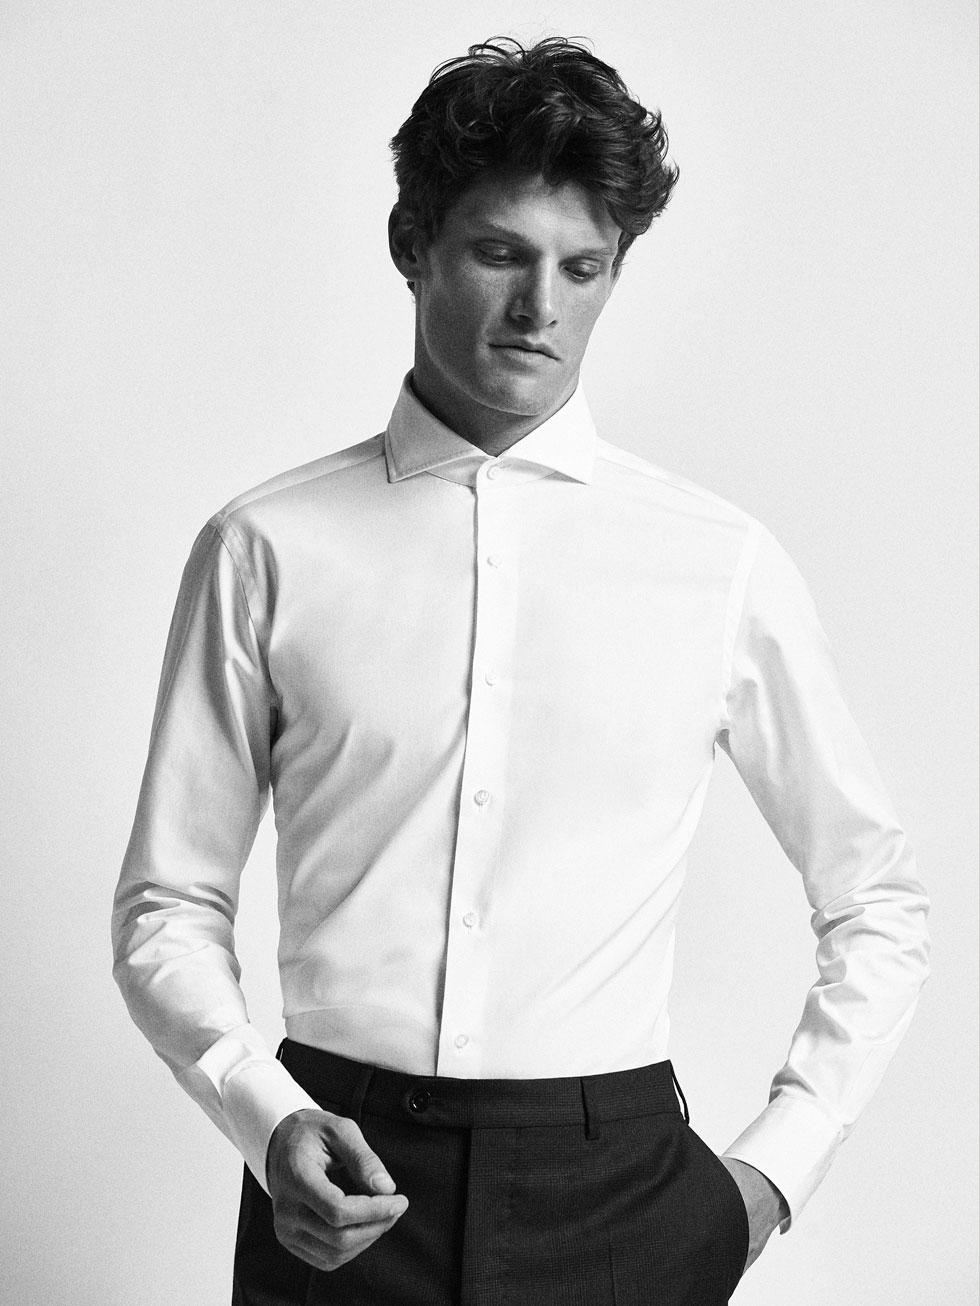teeshirt: (117, 417, 925, 1211)
